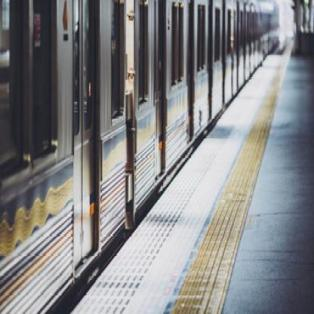Podoctatil: (162, 32, 294, 314)
